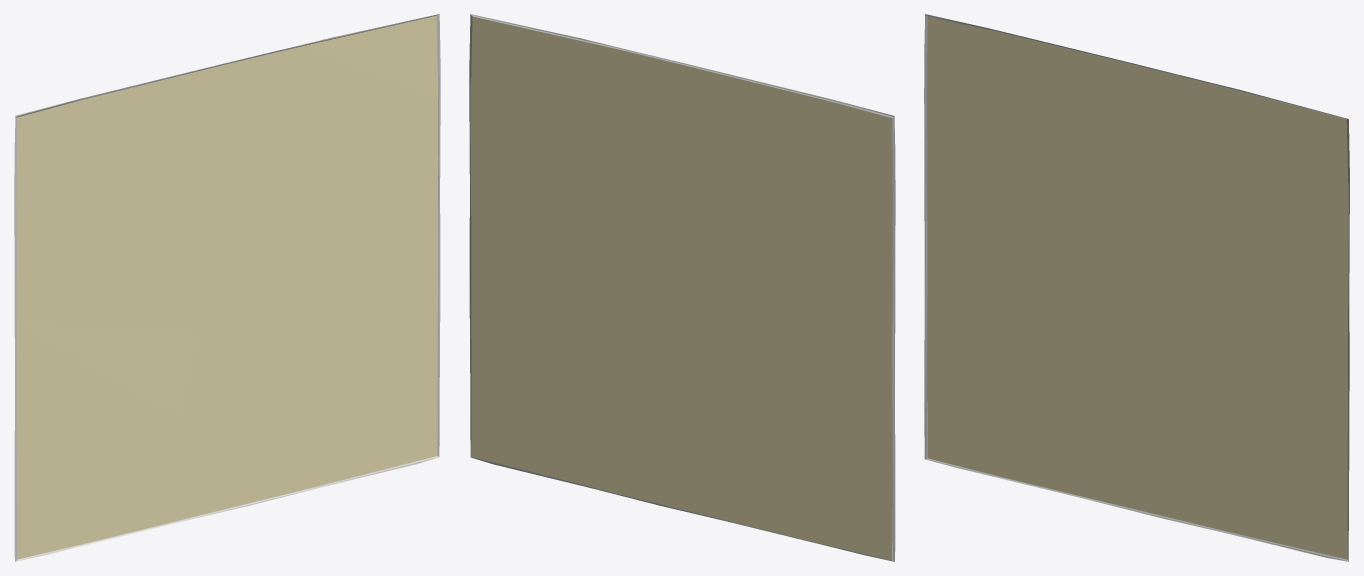
File: ui_inset_lg_1x1.glb
The picture shows the model from 3 angles, left to right: view 1: azimuth 30°, elevation 25°; view 2: azimuth 150°, elevation 25°; view 3: azimuth 330°, elevation 25°; orthographic projection.
Visible parts, largest first — view 1: Cube; view 2: Cube; view 3: Cube.
Boxes of the visible parts, <box> form: Cube: <box>14,14,440,561</box>; Cube: <box>469,14,895,561</box>; Cube: <box>924,14,1349,561</box>.
Size of the model in its own units: 1.99 by 2 by 0.00435.
